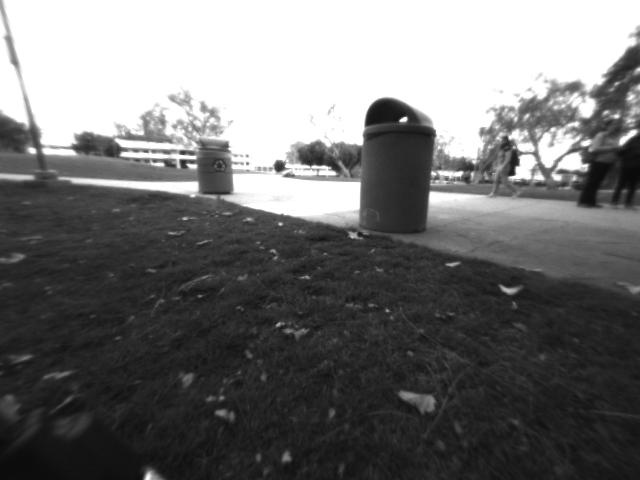trashcan: (358, 94, 440, 236)
